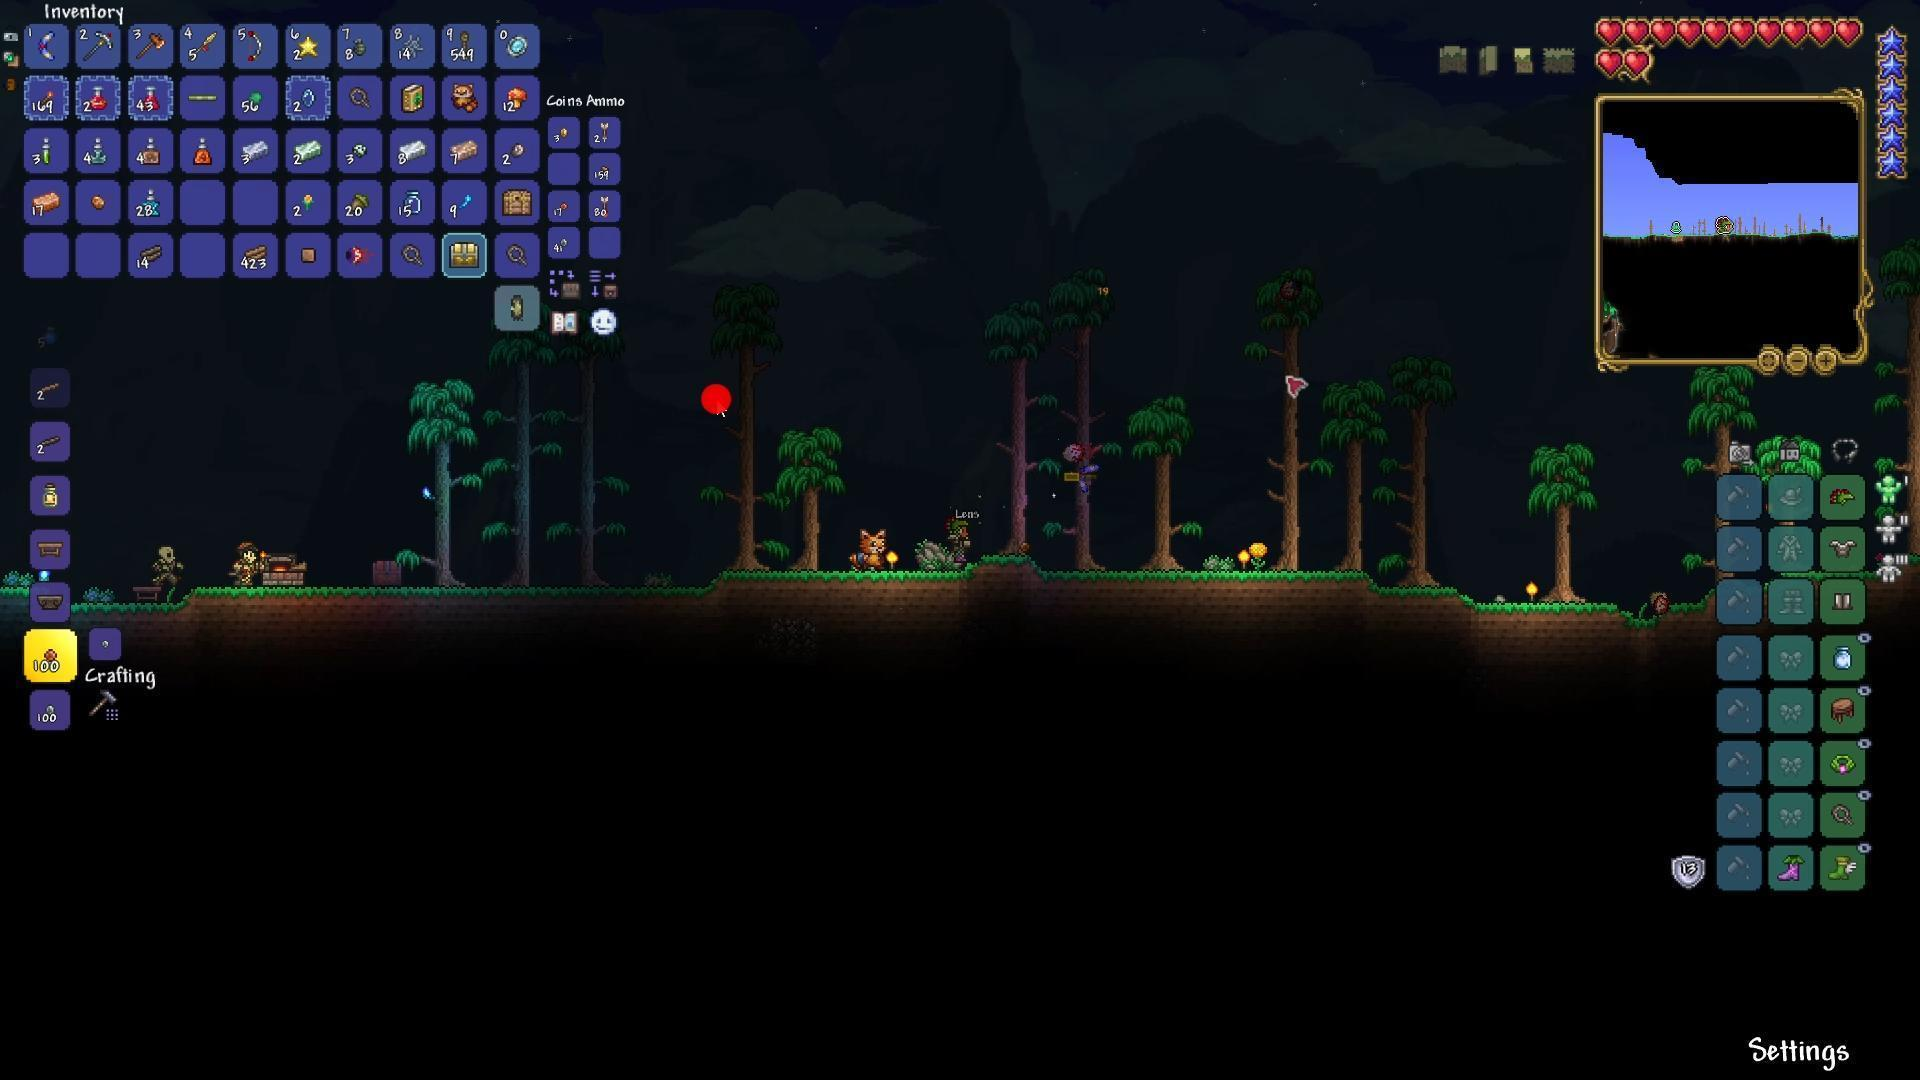arrow: (600, 120, 612, 146), (599, 191, 609, 219)
axe: (133, 33, 166, 57)
breastplate: (1829, 538, 1858, 560)
chest: (447, 243, 481, 272)
cobwebI: (401, 33, 425, 58)
eye: (1050, 434, 1102, 479), (343, 244, 375, 268)
furnace: (257, 551, 314, 583)
legs: (1830, 589, 1855, 612)
lens: (301, 83, 316, 109)
torchT: (878, 550, 909, 582), (1522, 571, 1543, 613)
workbench: (34, 541, 65, 559)
zombie: (149, 530, 194, 603), (227, 530, 272, 597)
